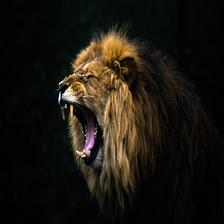Lion: (47, 18, 191, 197)
